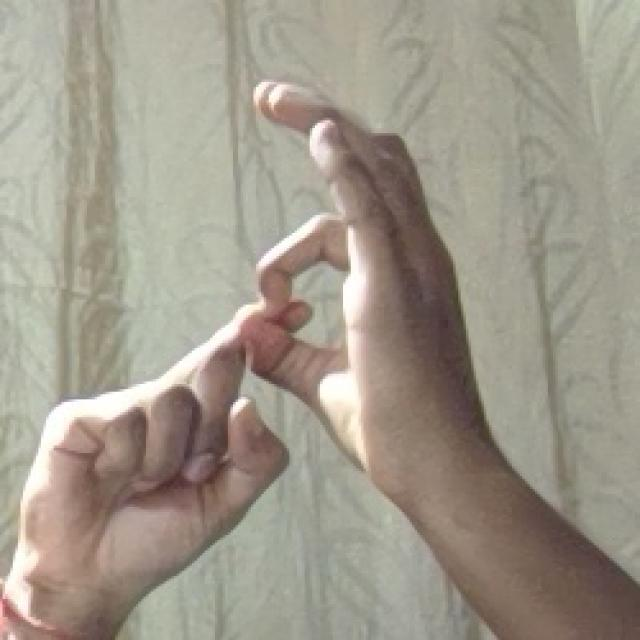Alphabet-Q: (32, 74, 535, 638)
